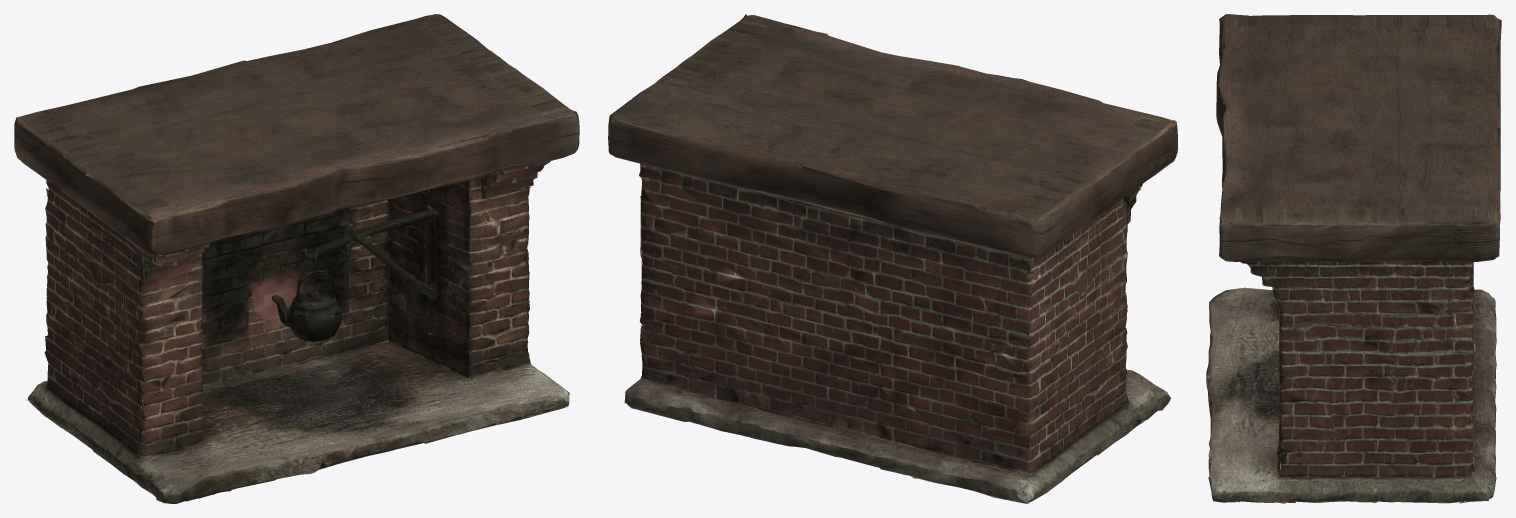
Rendered from hearth-mantel-interior-lod.glb.
The picture shows the model from 3 angles, left to right: view 1: azimuth 30°, elevation 25°; view 2: azimuth 150°, elevation 25°; view 3: azimuth 270°, elevation 25°; orthographic projection.
Parts seen in each view (by area): view 1: Mesh_0; view 2: Mesh_0; view 3: Mesh_0.
Boxes of the visible parts, <box> form: Mesh_0: <box>14,14,579,503</box>; Mesh_0: <box>608,14,1177,503</box>; Mesh_0: <box>1206,14,1501,503</box>.
Bounding box in the file's own units: 1.91 × 1.23 × 1.13.
Materials: 1 (1 with a texture image).
